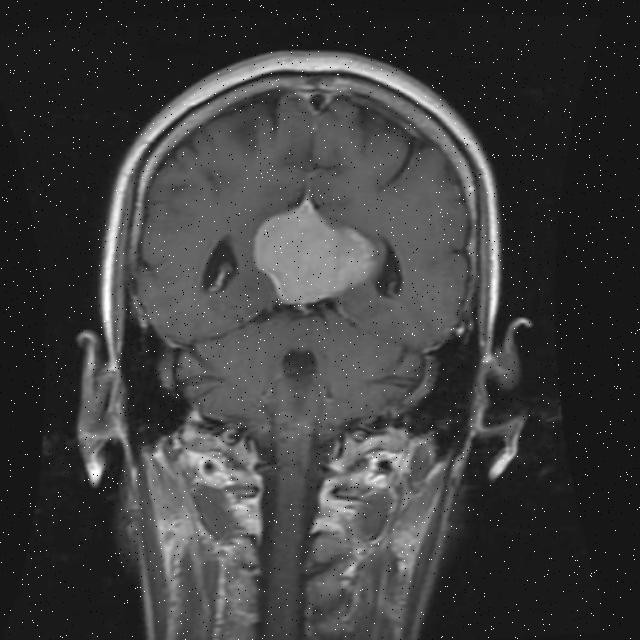Meningioma: (245, 185, 387, 311)
